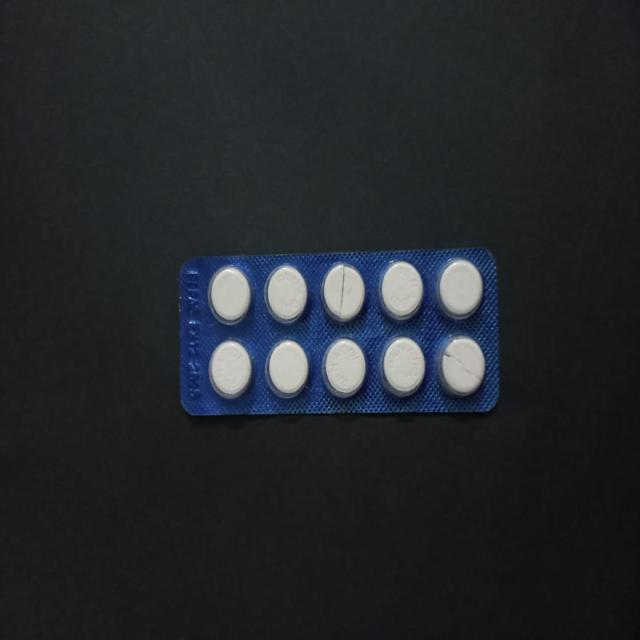defect: (439, 333, 487, 399), (321, 263, 367, 325)
